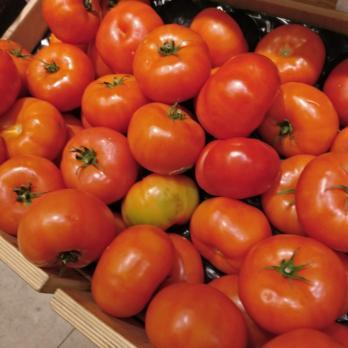Tomato: (0, 36, 348, 263), (115, 260, 348, 348)
